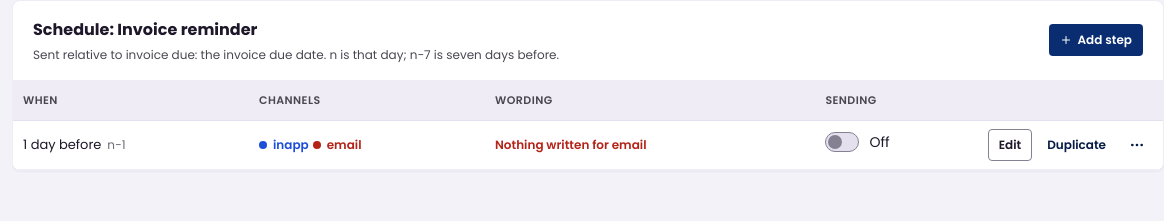
Schedule editor › flags a missing template and will not turn the step on
The width and height of the screenshot is (1164, 221).
Check: the text "Nothing written for email" is shown, box [495,136,646,153]
Click the switch at (842, 142), box [825,132,859,152]
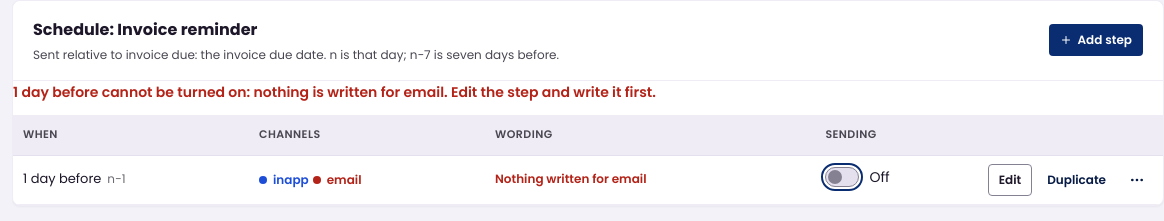
Check: the message shows "cannot be turned on: nothing is written for email", box [13,82,656,102]
